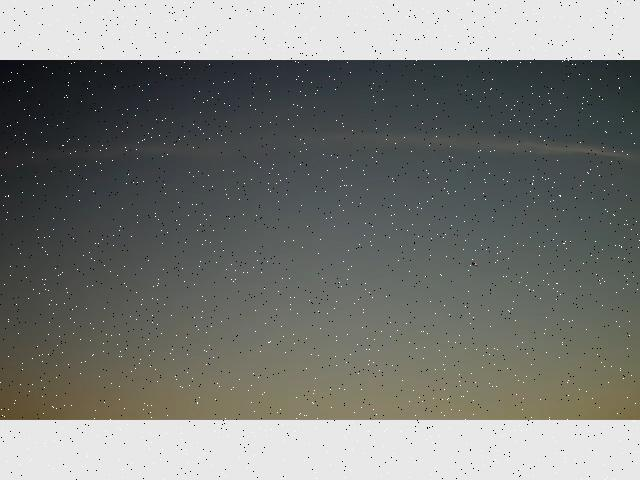Anti-Drone: (462, 256, 482, 272)
